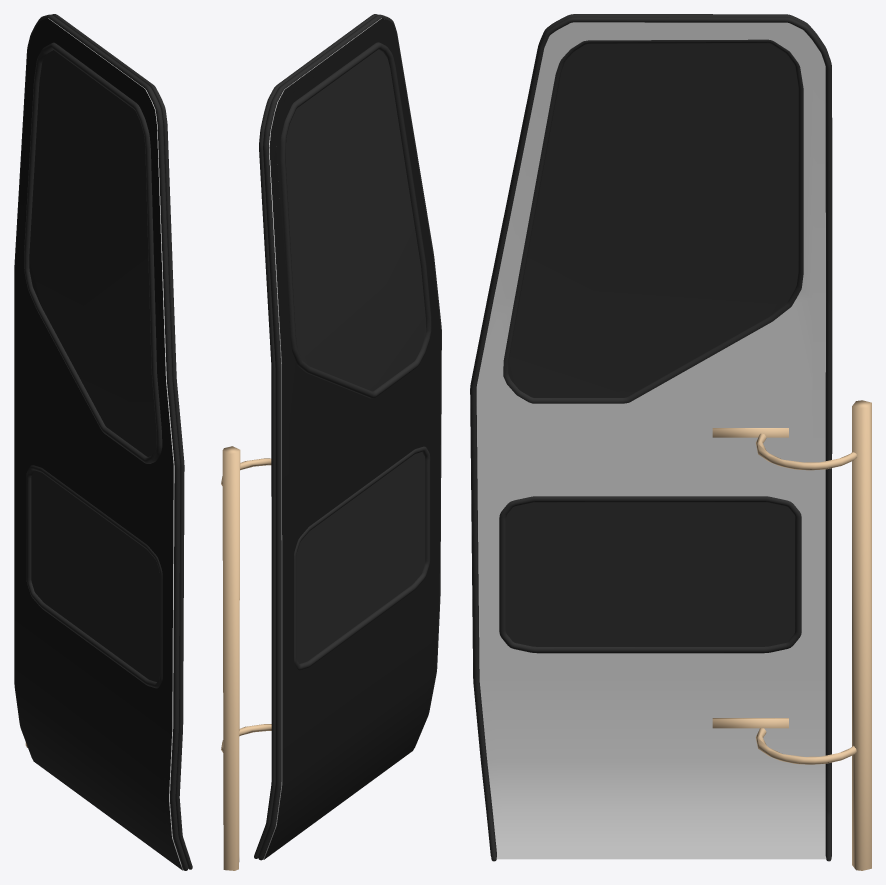
File: BusDoor.fbx
3 renders of one model, left to right at view 1: azimuth 30°, elevation 25°; view 2: azimuth 150°, elevation 25°; view 3: azimuth 270°, elevation 25°, orthographic. The views are drawn at different scales.
Visible parts, largest first — view 1: door_suavize; view 2: door_suavize; view 3: door_suavize.
Part boxes in pixels (x1,y1,x2,y2): door_suavize: (14, 14, 192, 870); door_suavize: (221, 14, 441, 870); door_suavize: (470, 14, 871, 870).
Bounding box in the file's own units: 18.76 × 209 × 90.05.
